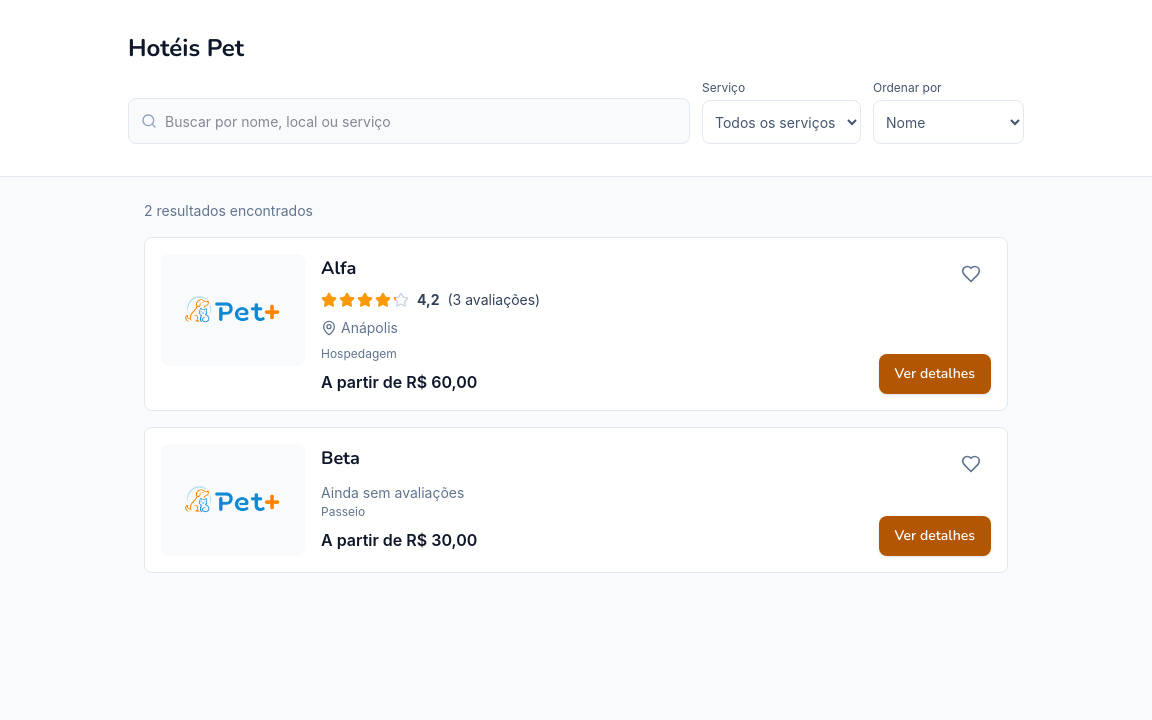
vitrine HOTEL › busca por local, filtra serviços e ordena por preço
Expected: the element "Alfa" is shown, [144,237,1008,411]
Select "Menor preço" in the dropdown labelled "Ordenar por" at x=948, y=122, box [873,100,1024,144]
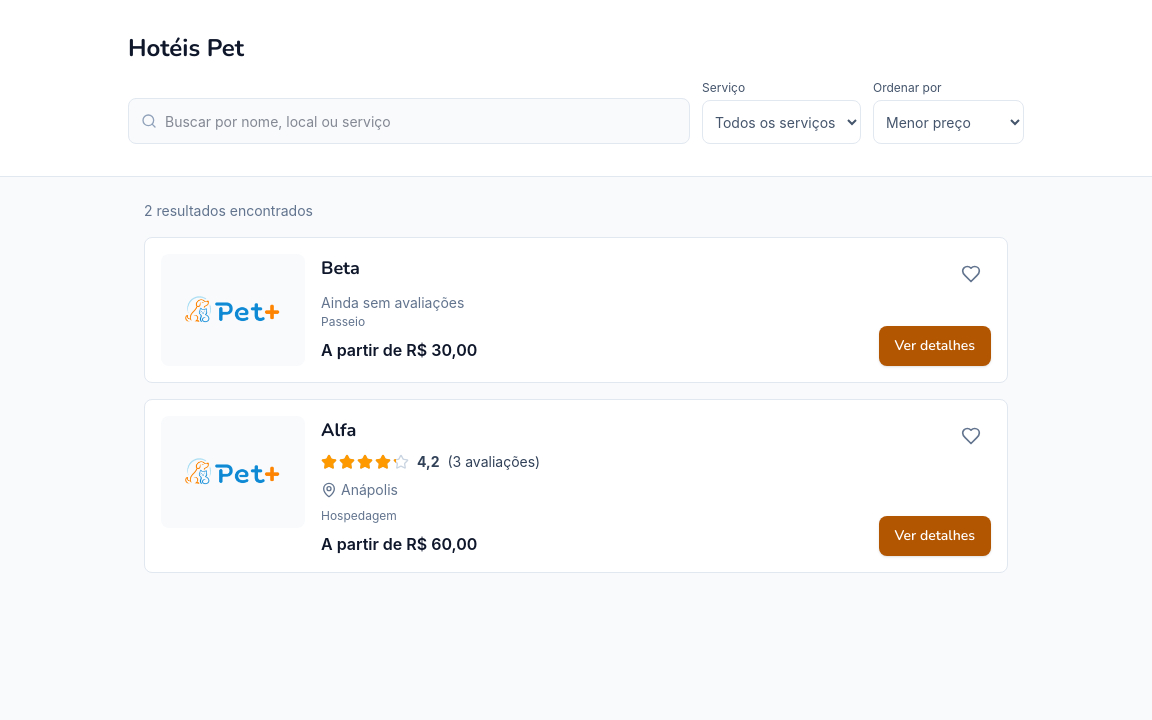
Type "Anápolis" into the field labelled "Buscar por nome, local ou serviço" at x=421, y=121, box [165,99,677,143]
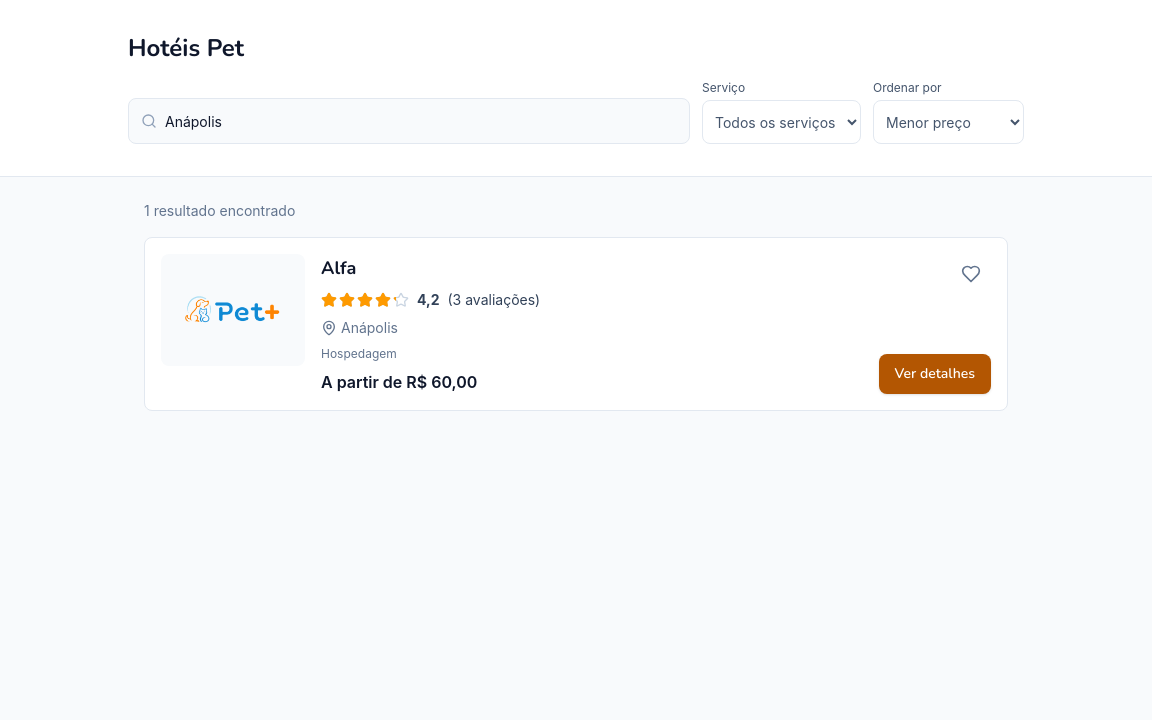
Clear the field named "Buscar por nome, local ou serviço" at x=421, y=121, box [165,99,677,143]
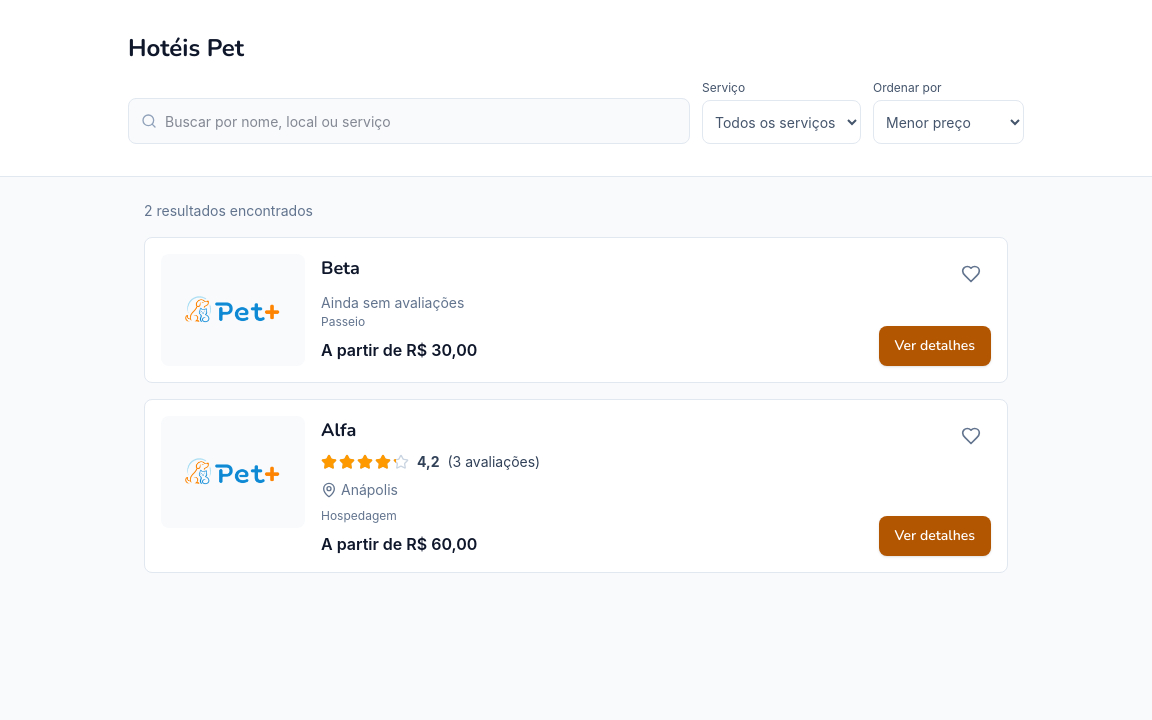
Select "Passeio" in the dropdown labelled "Serviço" at x=782, y=122, box [702,100,861,144]
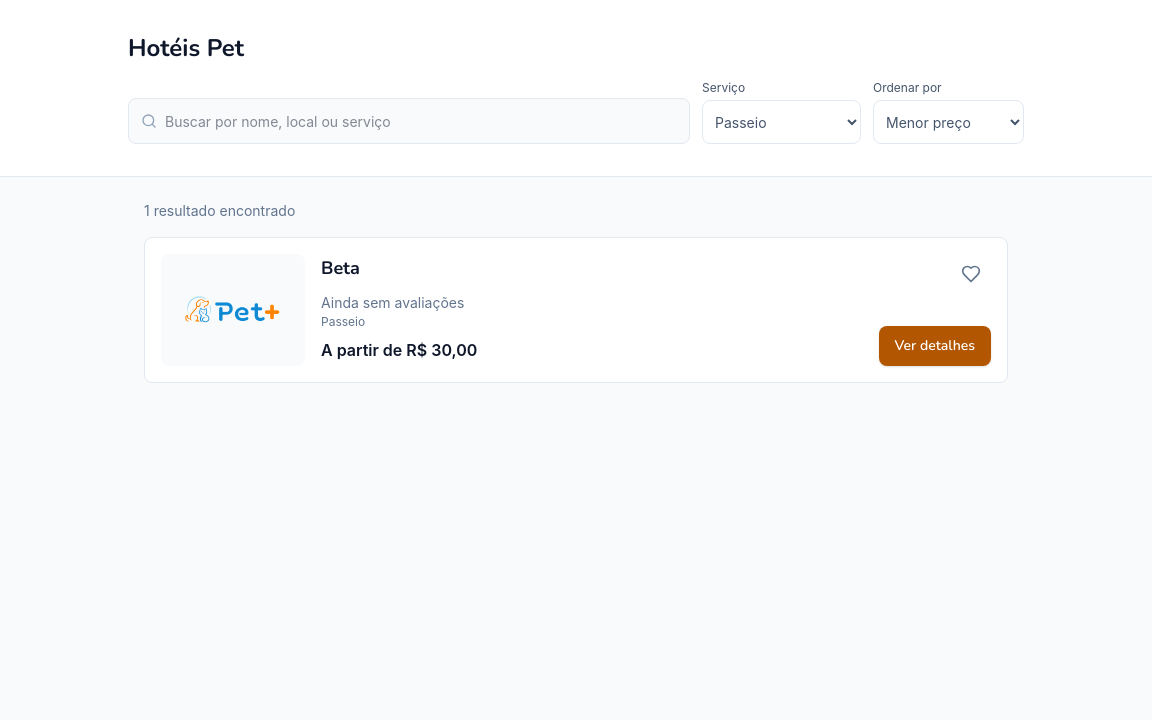
Expected: the element "Beta" is shown, [144,237,1008,383]
Expected: the link "Alfa" is gone
